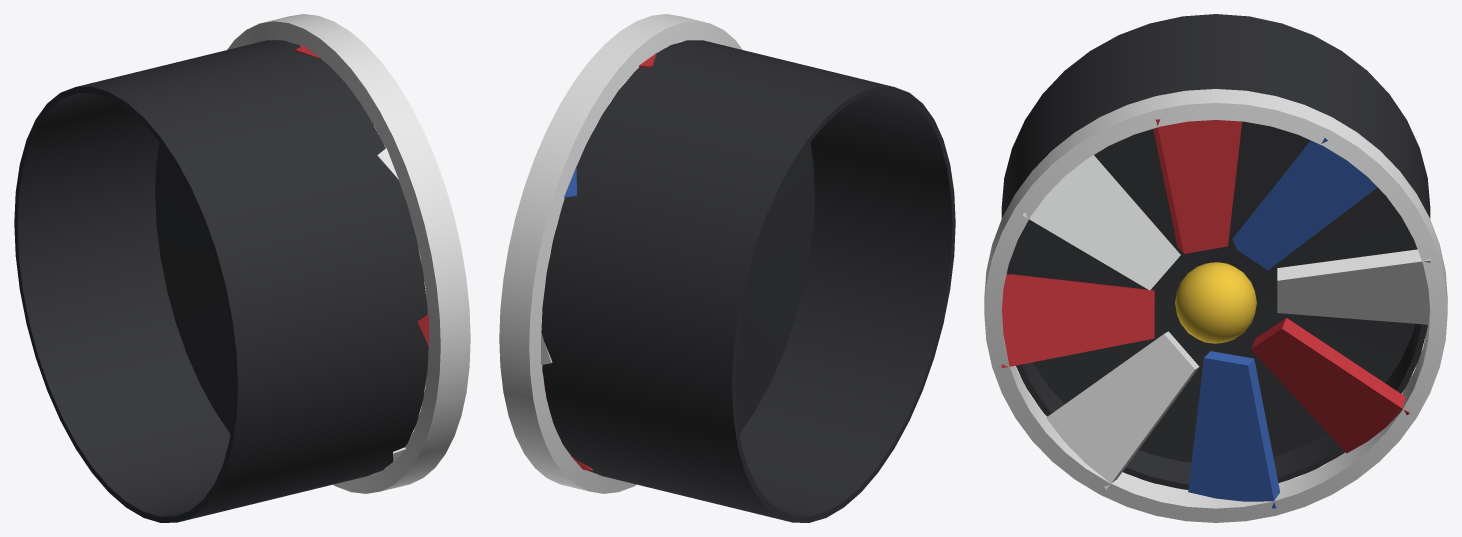
The model's file is rim_pinwheel.fbx.
3 renders of one model, left to right at view 1: azimuth 30°, elevation 25°; view 2: azimuth 150°, elevation 25°; view 3: azimuth 270°, elevation 25°, orthographic. The views are drawn at different scales.
Parts seen in each view (by area): view 1: dark_1, white_1; view 2: dark_1, white_1; view 3: dark_1, white_1, red_1, blue_1, yellow_1.
Part boxes in pixels (x1,y1,x2,y2): dark_1: (14,40,428,522); white_1: (227,14,470,493); dark_1: (541,40,955,522); white_1: (499,14,742,493); dark_1: (1001,14,1430,489); white_1: (984,89,1447,522); red_1: (1001,119,1409,453); blue_1: (1188,138,1377,508); yellow_1: (1175,262,1256,343).
Size of the model in its own units: 0.0234 by 0.0409 by 0.0409.
